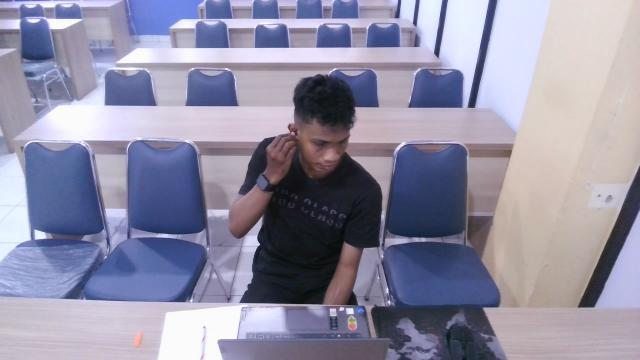Earpiece: (281, 119, 305, 148)
Head_Down_Extreme: (226, 68, 393, 314)
